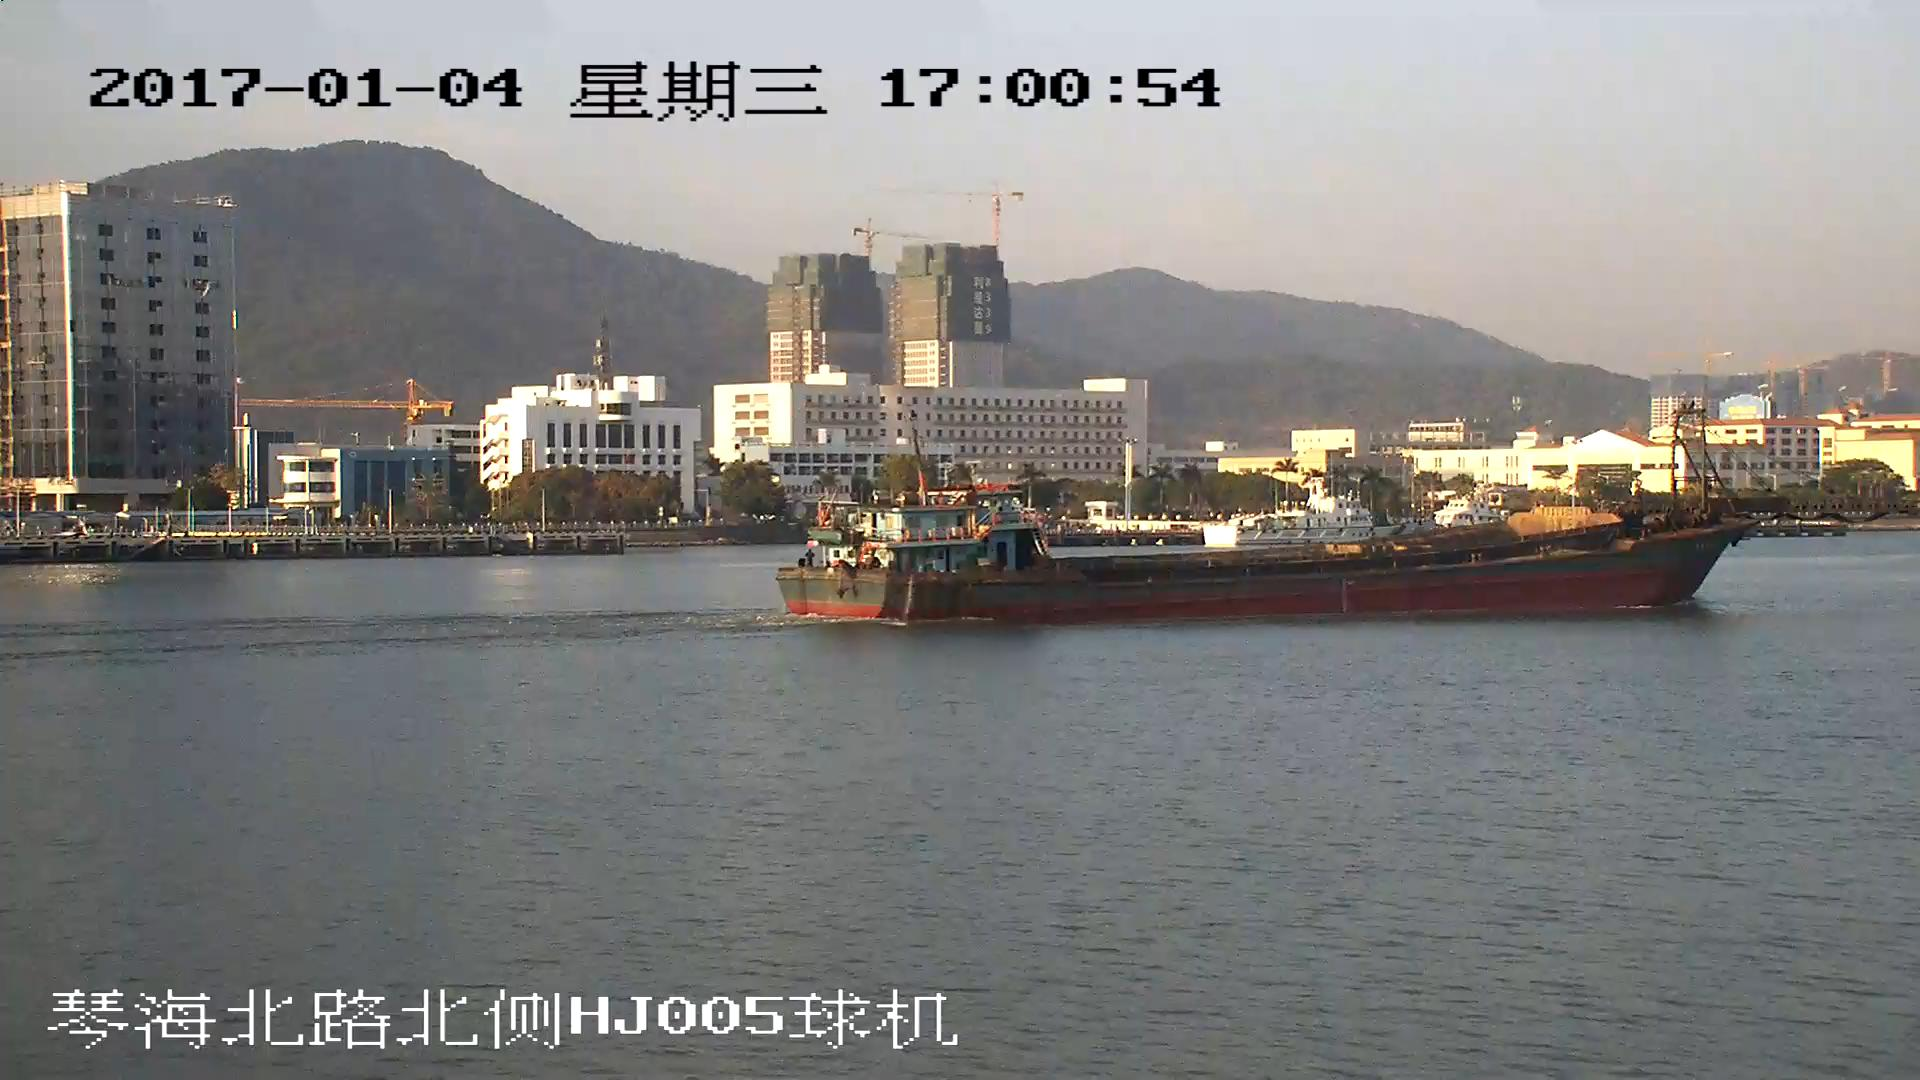bulk cargo carrier: (782, 400, 1739, 619)
